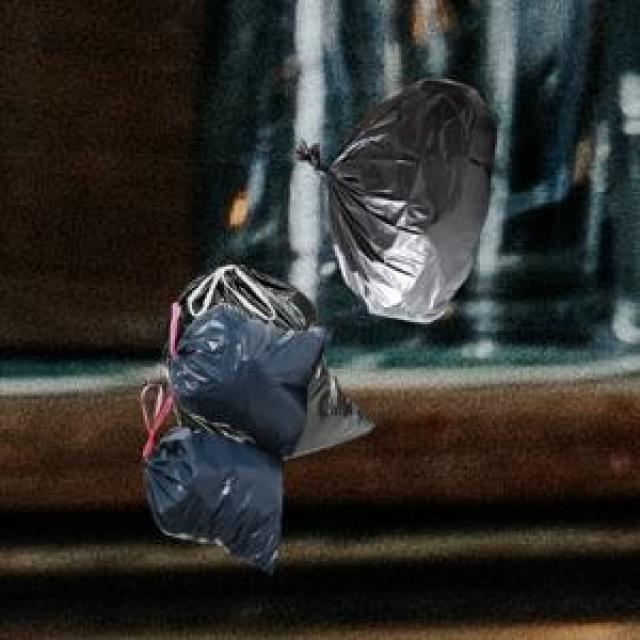Vinyl: (140, 264, 372, 572), (298, 80, 495, 323)
